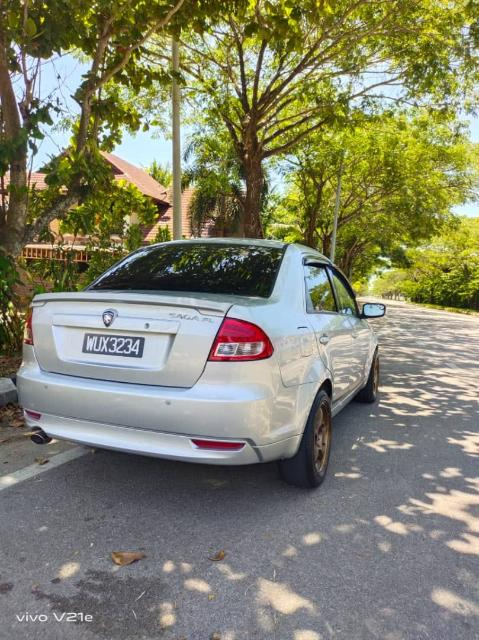License_Plate: (79, 328, 152, 363)
car: (21, 236, 388, 487)
